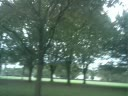window: (1, 34, 68, 96), (91, 0, 104, 21)
